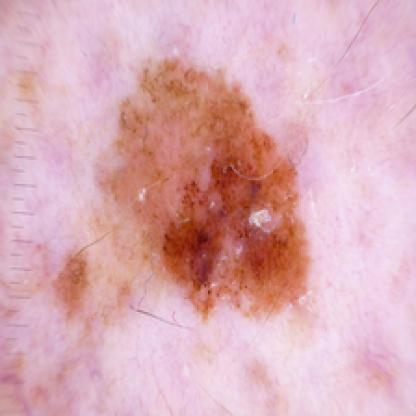Skin_Cancer-Malignant: (95, 55, 315, 324)
